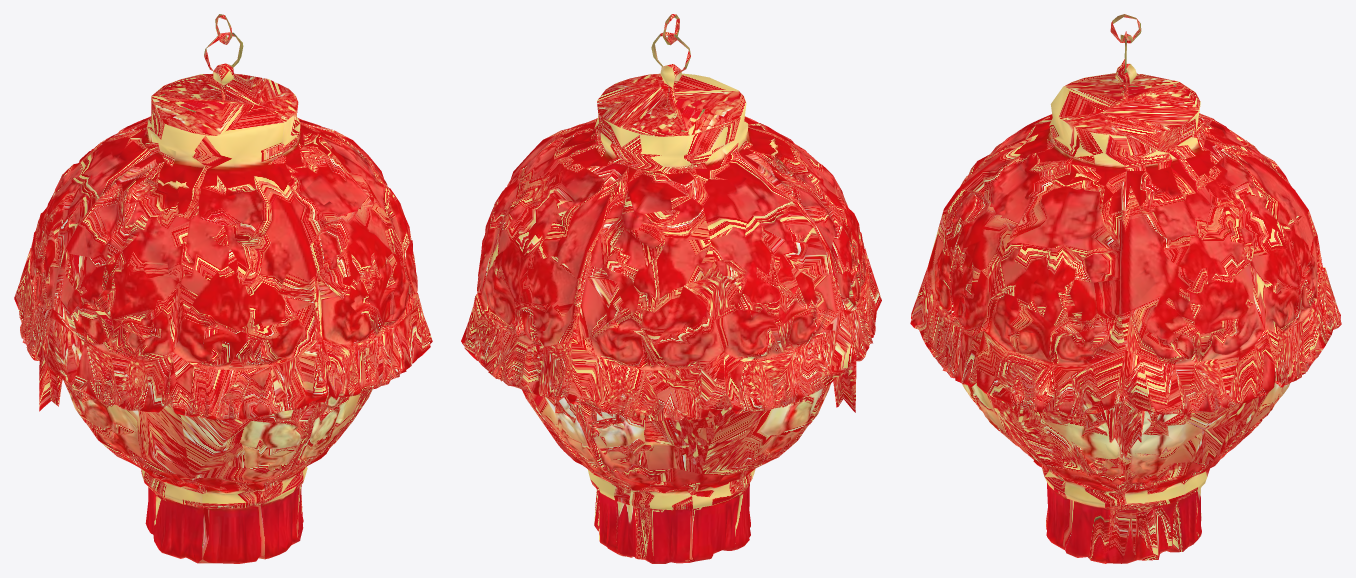
File: lib_lantern.lod.glb
3 renders of one model, left to right at view 1: azimuth 30°, elevation 25°; view 2: azimuth 150°, elevation 25°; view 3: azimuth 270°, elevation 25°, orthographic.
Bounding box in the file's own units: 1.41 × 1.9 × 1.43.
Materials: 1 (1 with a texture image).
